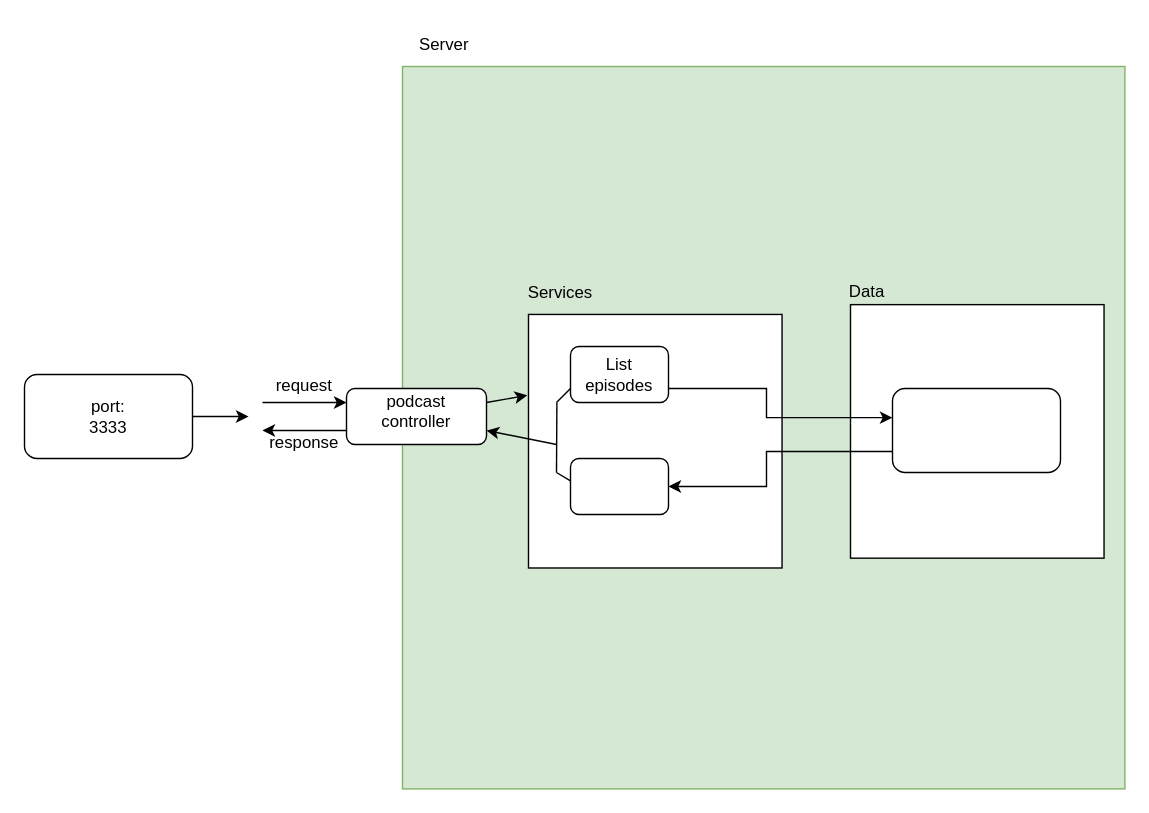
This 1149x813 diagram has some shape labels left out. The shapes that lost their labels are listed below. From the top down, each one's centre as x and y in pixels, then its label:
At point (975, 429): "Repositorio de episodios cadastrados".
At point (618, 485): "Filter episodes".
